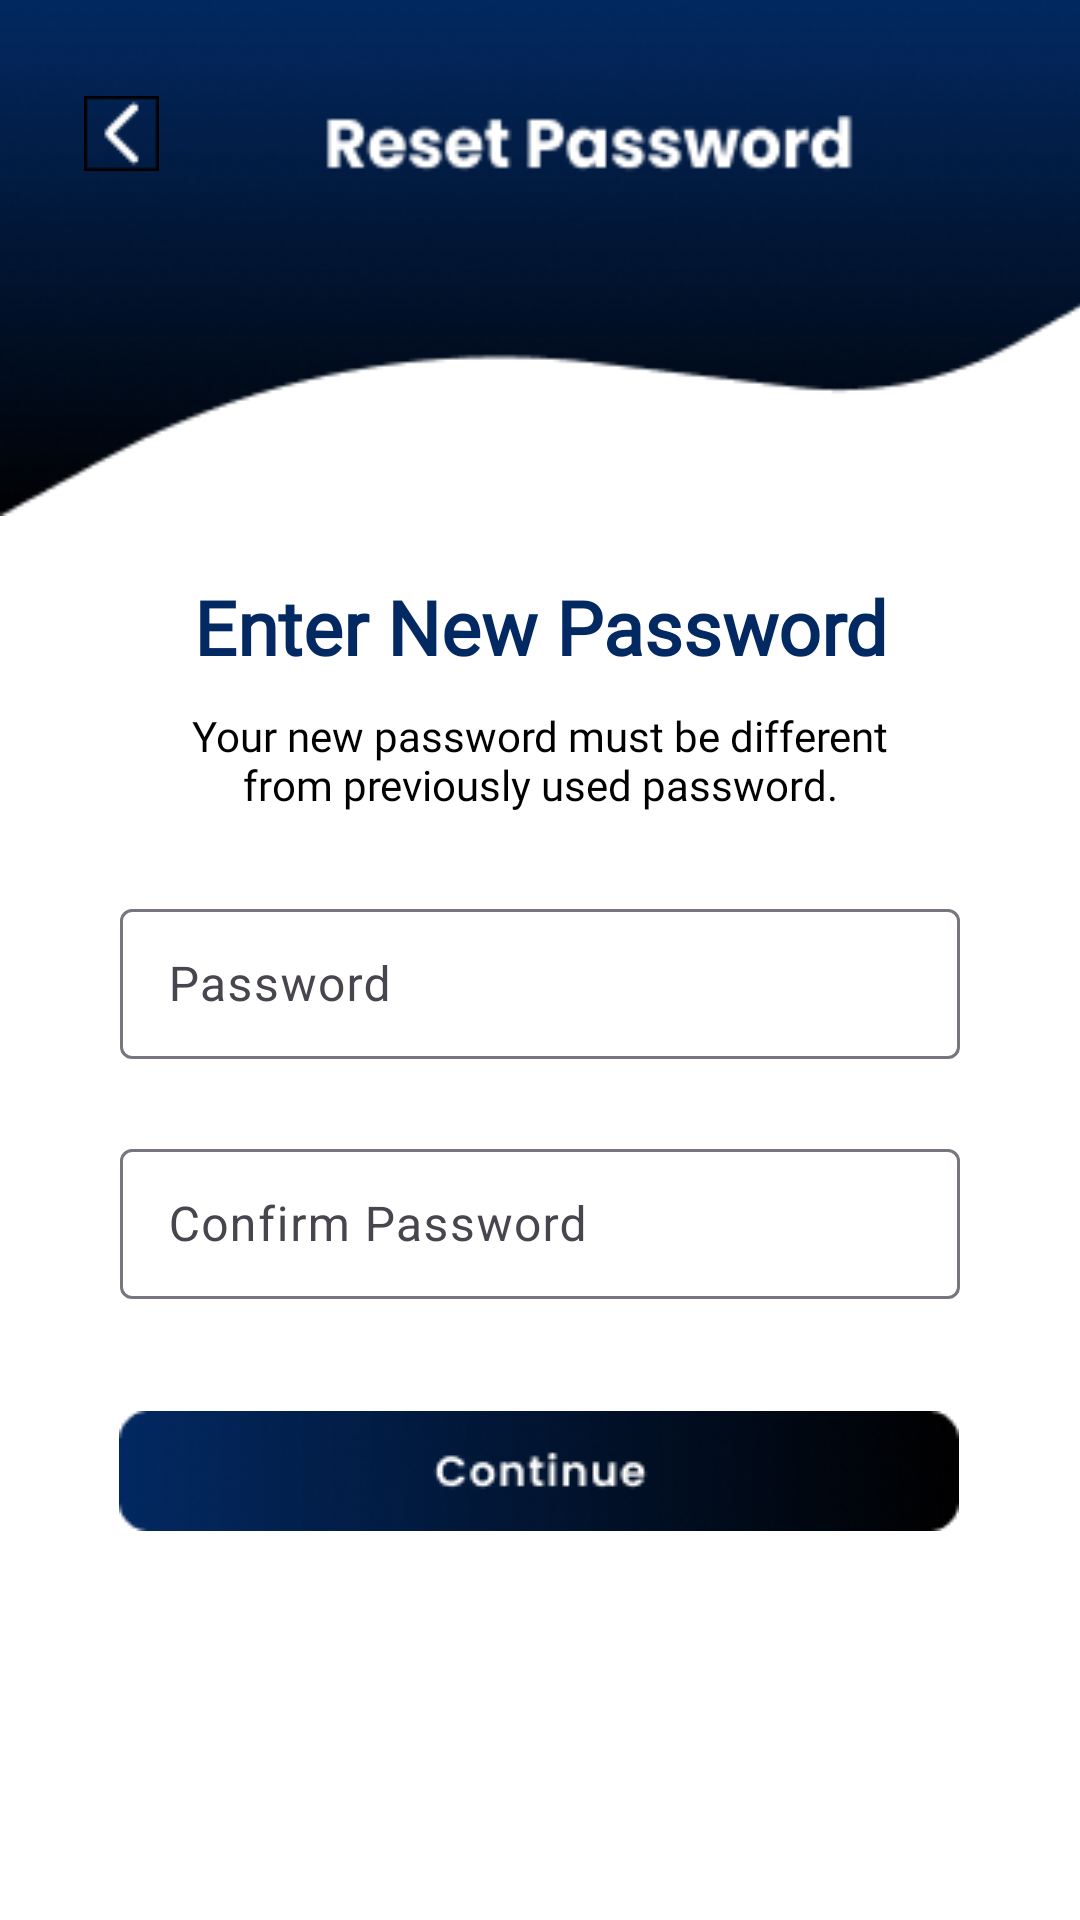

Where to tap for icons on this 1080w x 1920h app screen, as (x=x, y=y):
symbols arrow back rounded: (x=121, y=133)
